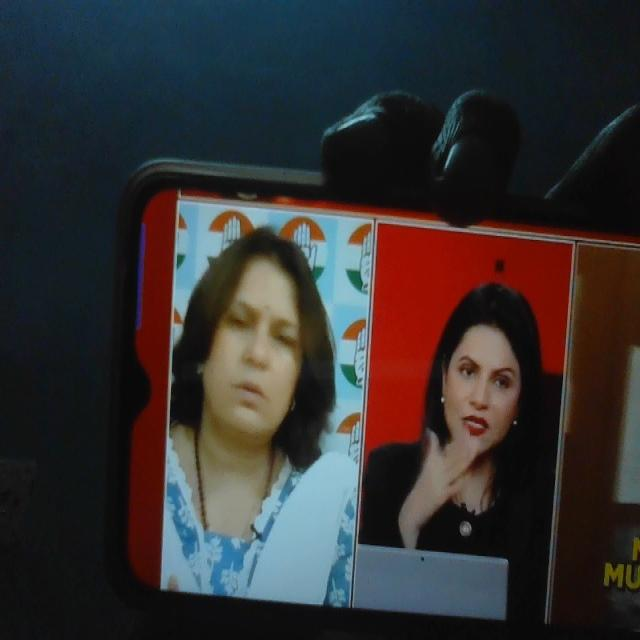fake: (196, 224, 313, 445), (429, 282, 531, 474)
